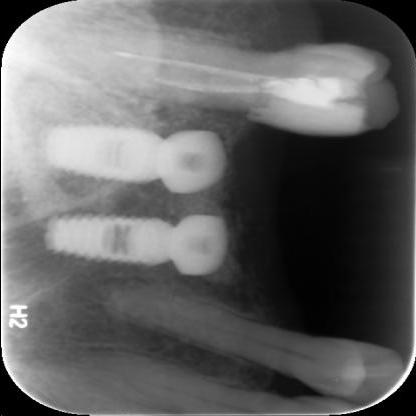Bicon: (36, 208, 174, 270), (37, 122, 161, 184)
